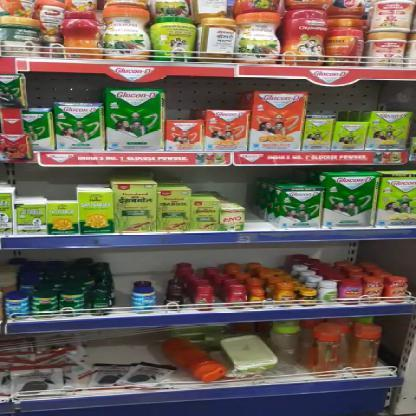Glucon D Nimbu Pani 1-KG: (377, 170, 415, 226), (368, 110, 406, 149)
Glucon D Regular 1-KG: (105, 89, 164, 148)
Glucon D Tangy orange 1-KG: (246, 89, 298, 146)
